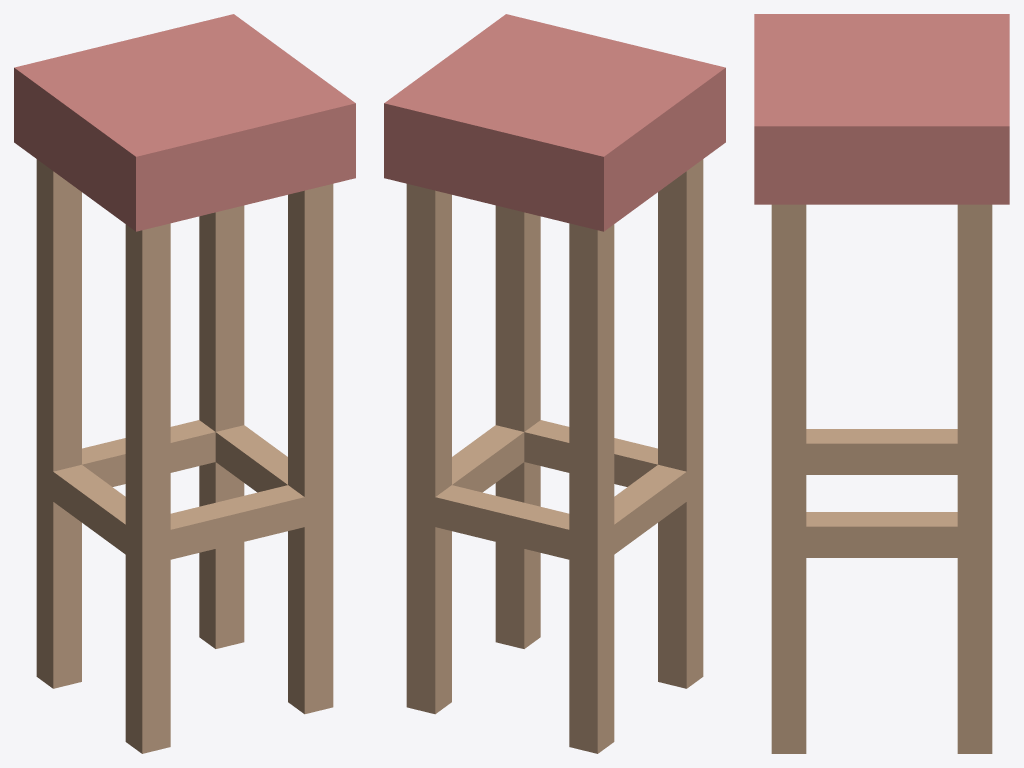
Rendered from stoolBarSquare.glb.
The picture shows the model from 3 angles, left to right: view 1: azimuth 30°, elevation 25°; view 2: azimuth 150°, elevation 25°; view 3: azimuth 270°, elevation 25°; orthographic projection. The views are drawn at different scales.
Visible parts, largest first — view 1: stoolBarSquare; view 2: stoolBarSquare; view 3: stoolBarSquare.
Boxes of the visible parts, bbox=[...] form: stoolBarSquare: bbox=[14, 14, 355, 753]; stoolBarSquare: bbox=[384, 14, 725, 753]; stoolBarSquare: bbox=[754, 14, 1009, 753].
Bounding box in the file's own units: 0.1535 × 0.405 × 0.1476.
